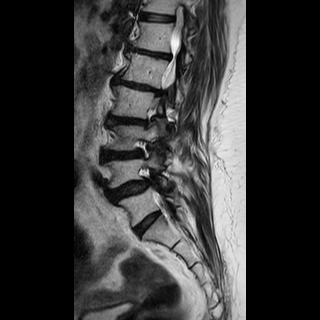LFS1: (131, 133, 156, 164)
